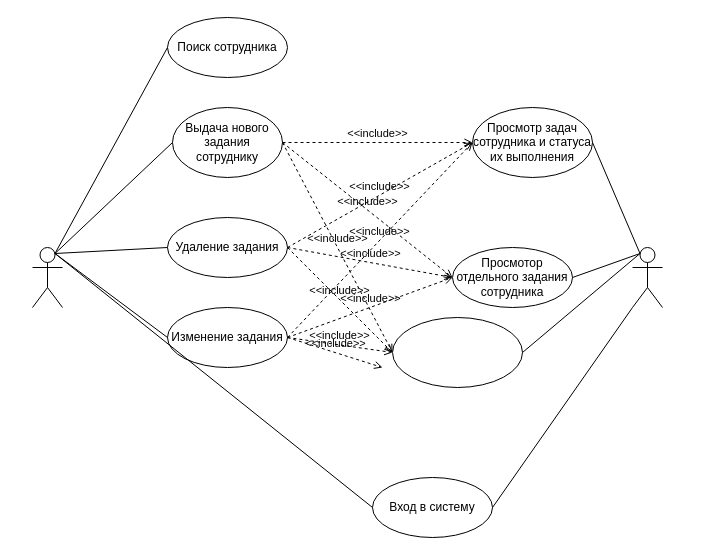
This 703x555 diagram has some shape labels left out. The box of each missing label's shape, as (x1, y1, x2, y2) in pixels:
Начальник: (32, 246, 62, 308)
Подчиненный: (632, 246, 662, 308)
Смена статуса выполнения собственных задач: (392, 316, 522, 388)
